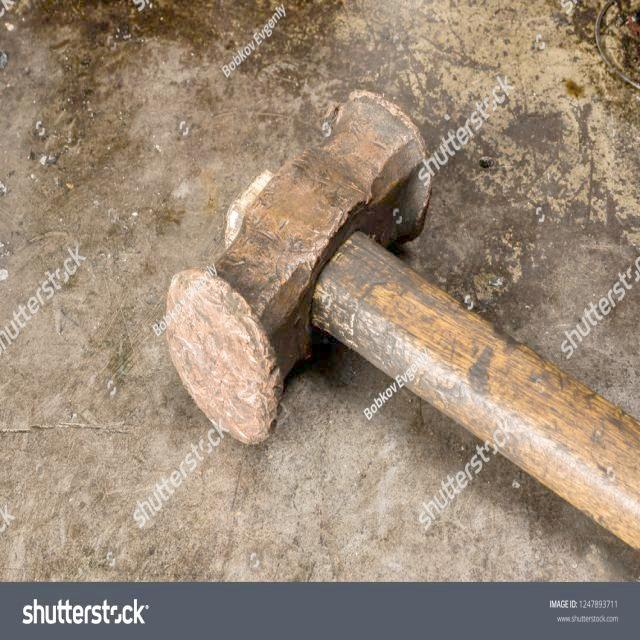hammer: (159, 82, 640, 562)
